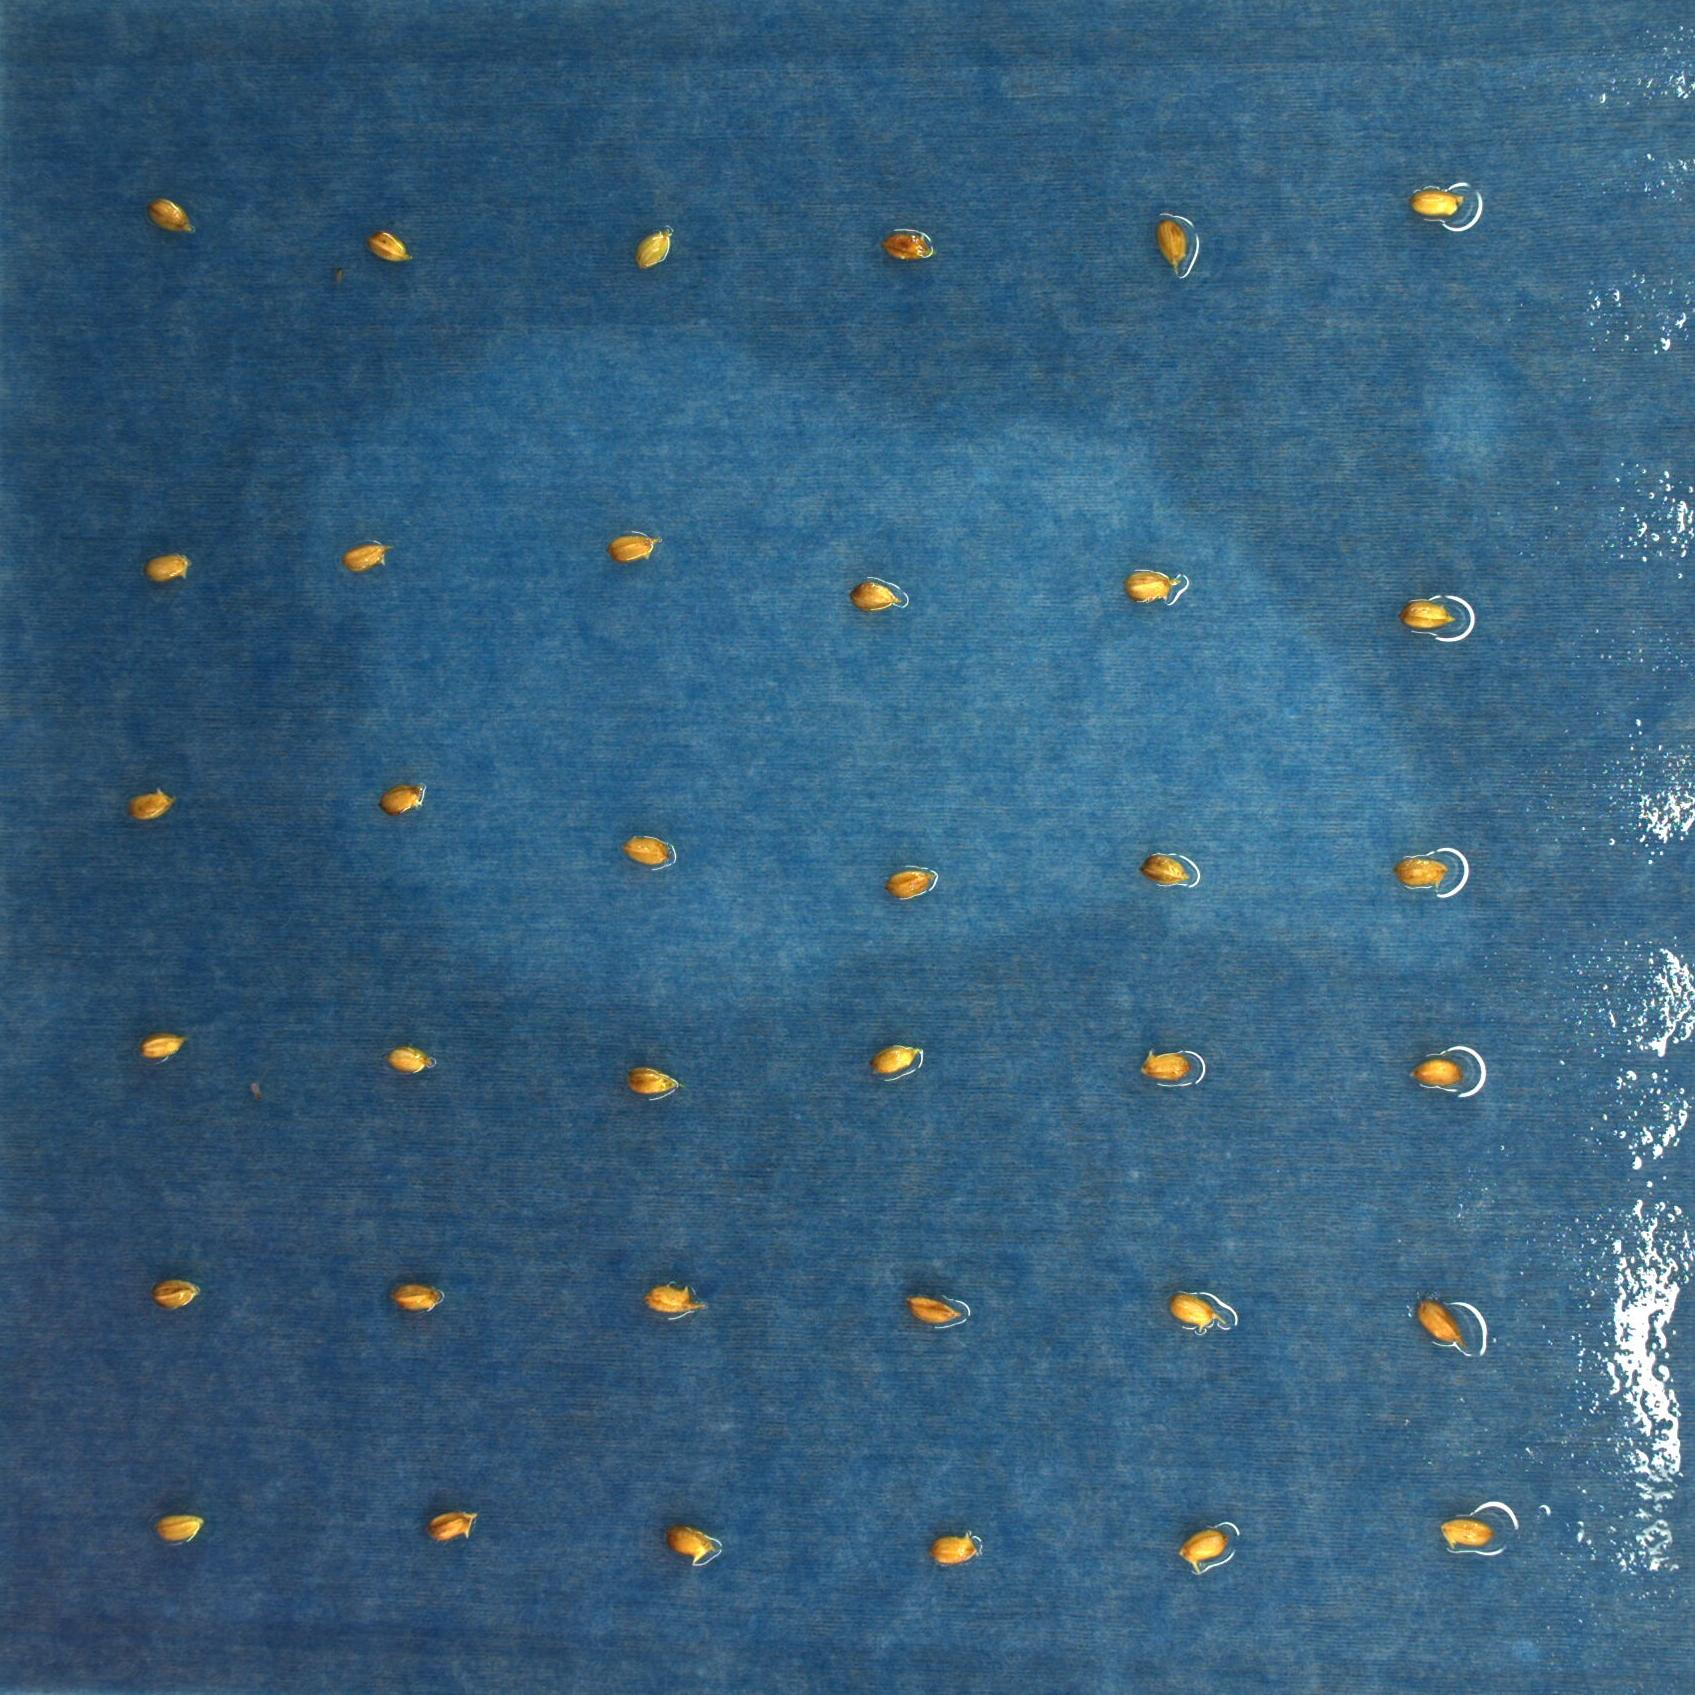not sprout: (640, 1279, 708, 1326), (1138, 841, 1195, 894), (1400, 179, 1468, 219), (1419, 1295, 1468, 1346), (1121, 563, 1183, 604), (663, 1526, 716, 1571), (1152, 217, 1191, 278), (905, 1291, 965, 1330), (847, 573, 903, 615), (152, 196, 200, 244), (605, 525, 663, 563), (341, 534, 397, 573), (621, 830, 674, 871), (1399, 594, 1454, 632), (880, 227, 933, 265), (124, 781, 172, 823), (1397, 851, 1447, 891), (1175, 1291, 1226, 1330), (1406, 1055, 1470, 1087), (888, 858, 934, 900), (1173, 1534, 1226, 1569), (930, 1527, 979, 1565), (388, 1281, 441, 1315), (366, 224, 411, 261), (872, 1042, 924, 1074), (154, 1277, 200, 1313), (430, 1510, 478, 1544), (622, 1066, 675, 1097), (377, 781, 427, 813), (1138, 1048, 1192, 1077), (146, 553, 192, 585), (1439, 1516, 1493, 1544), (157, 1512, 203, 1544), (633, 228, 674, 265), (386, 1046, 438, 1073), (144, 1034, 186, 1062)
